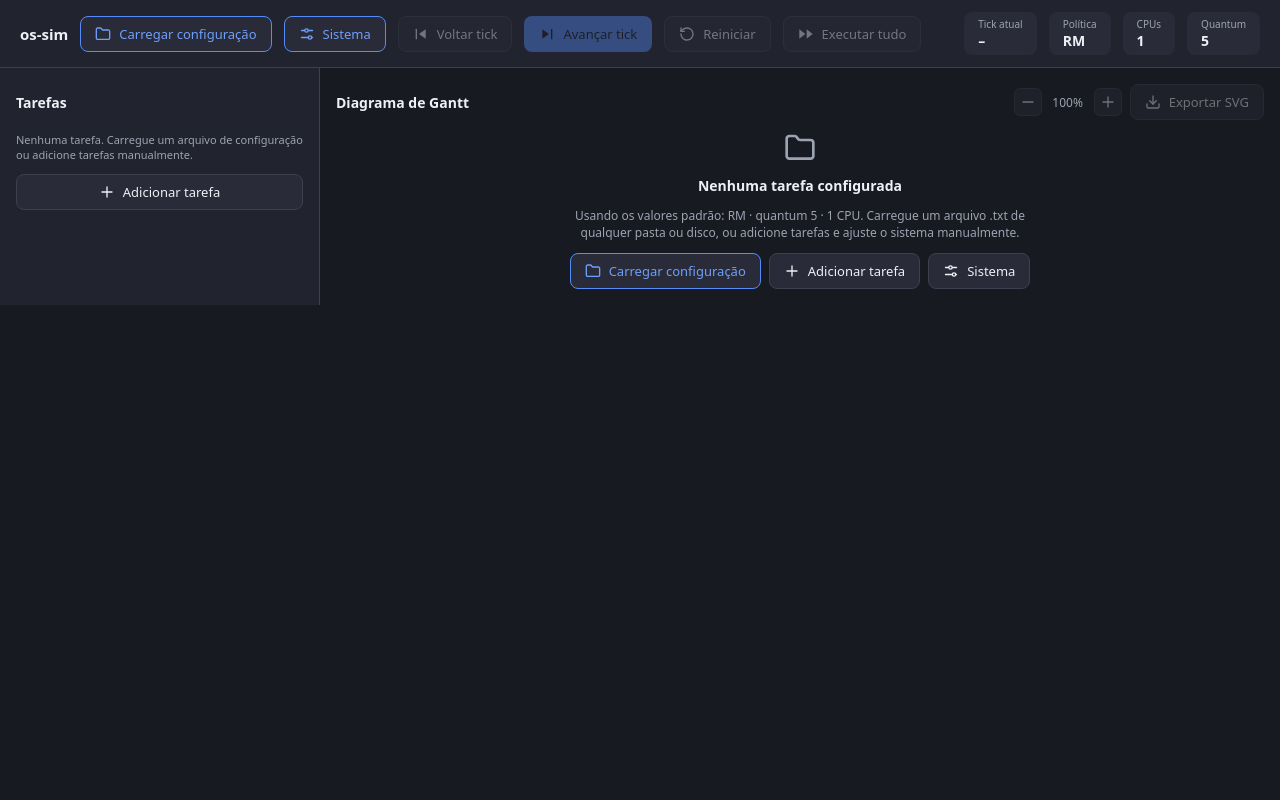
App preparation without a file (#36 part 2) › changes the system values and shows them in the toolbar
This screenshot has width=1280, height=800.
Click the button "Sistema" in the row of "os-sim". click: (335, 34)
box: [284,16,386,52]
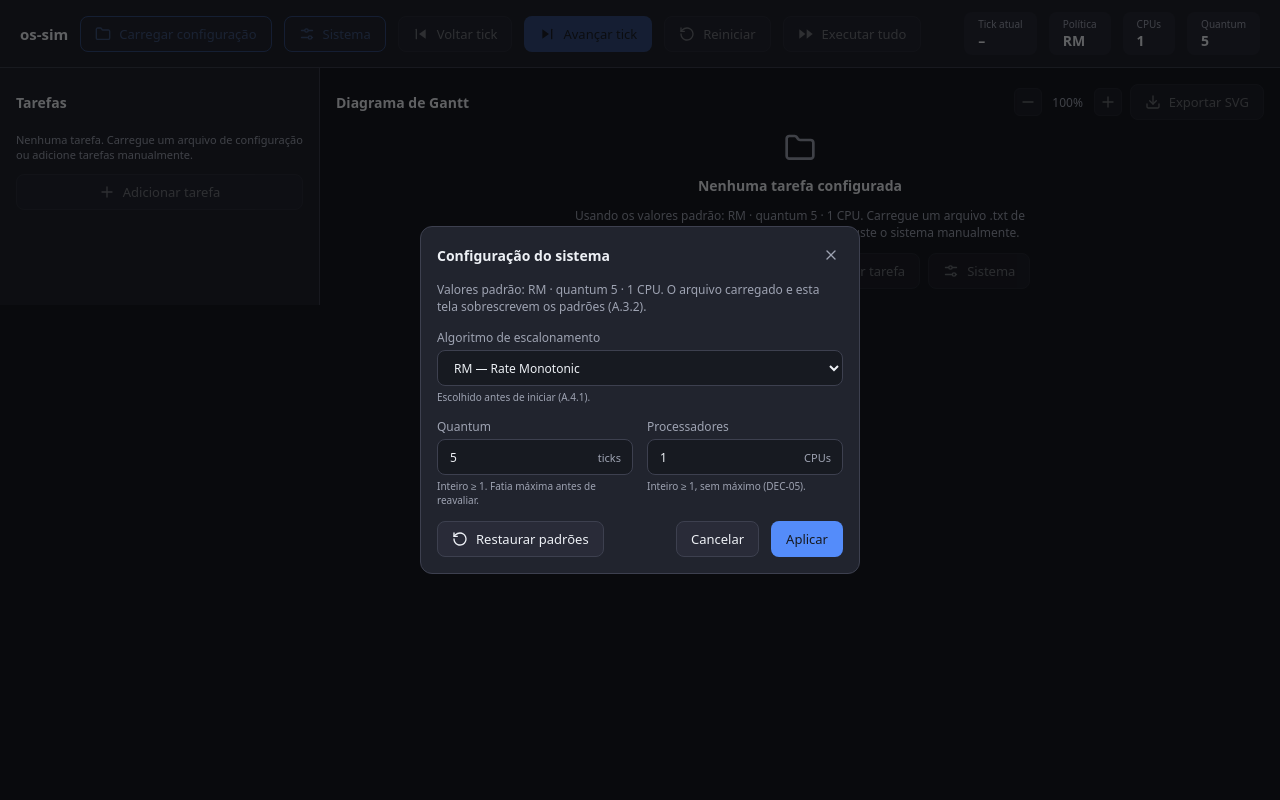
Select "EDF — Earliest Deadline First" in the dropdown labelled "Algoritmo de escalonamento". click: (640, 368)
box: [437,350,843,386]
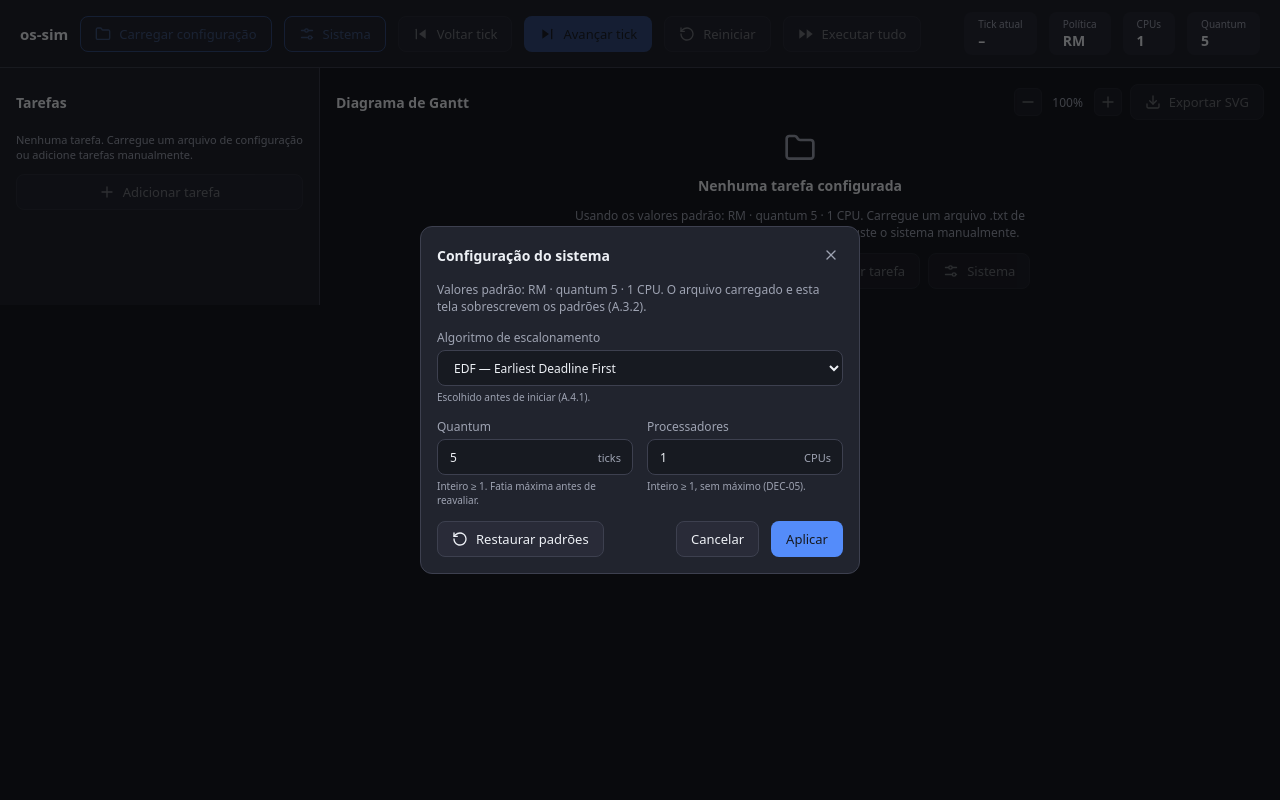
Replace the text in the field labelled "Quantum" with "2". click: (535, 457)
box: [437,439,633,475]
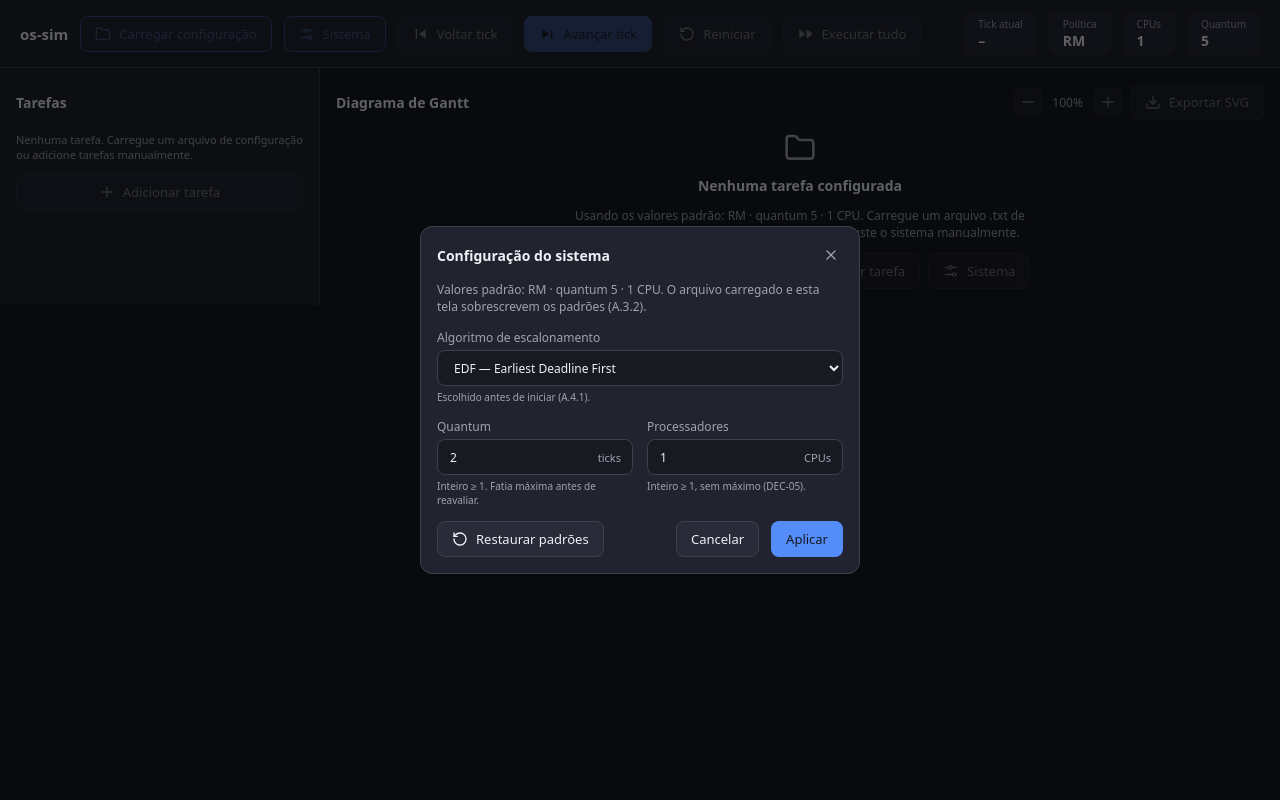
Replace the text in the field labelled "Processadores" with "3". click: (745, 457)
box: [647,439,843,475]
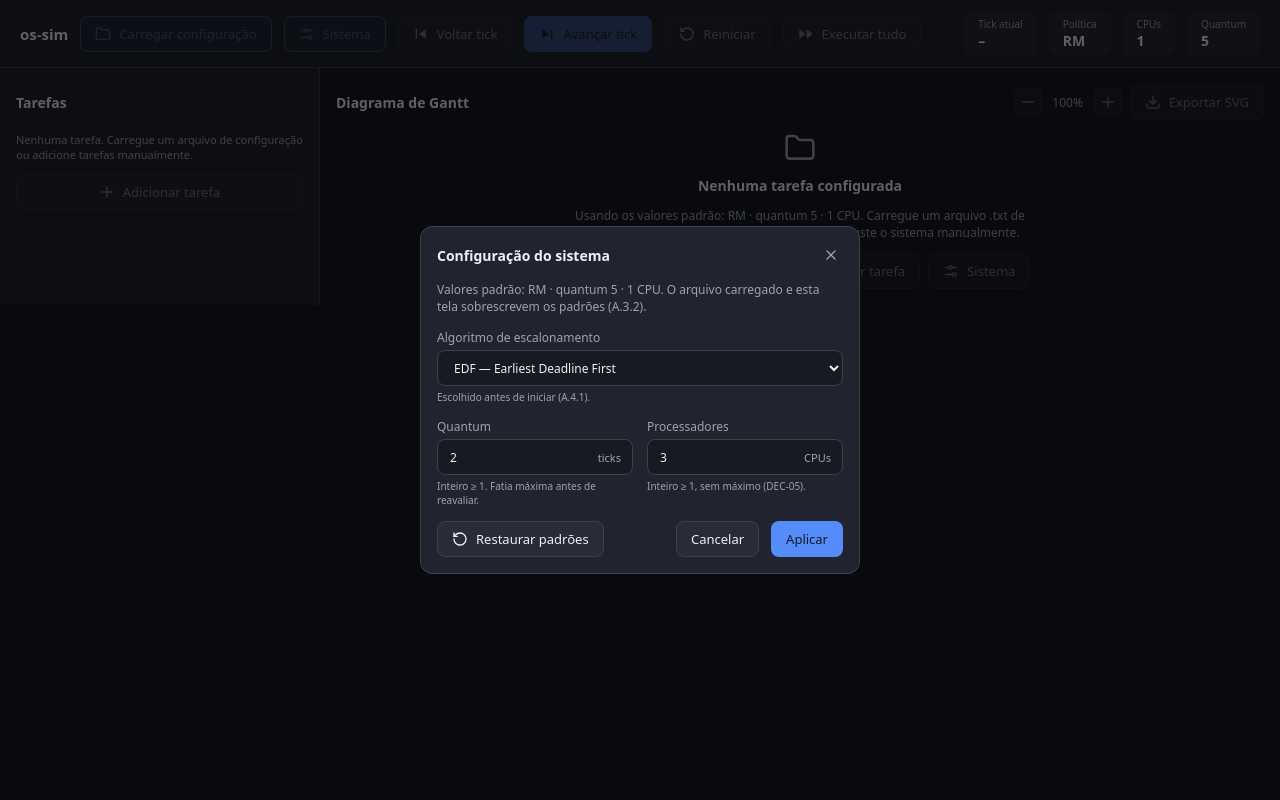
Click the button "Aplicar". click: (807, 539)
box: [771,521,843,557]
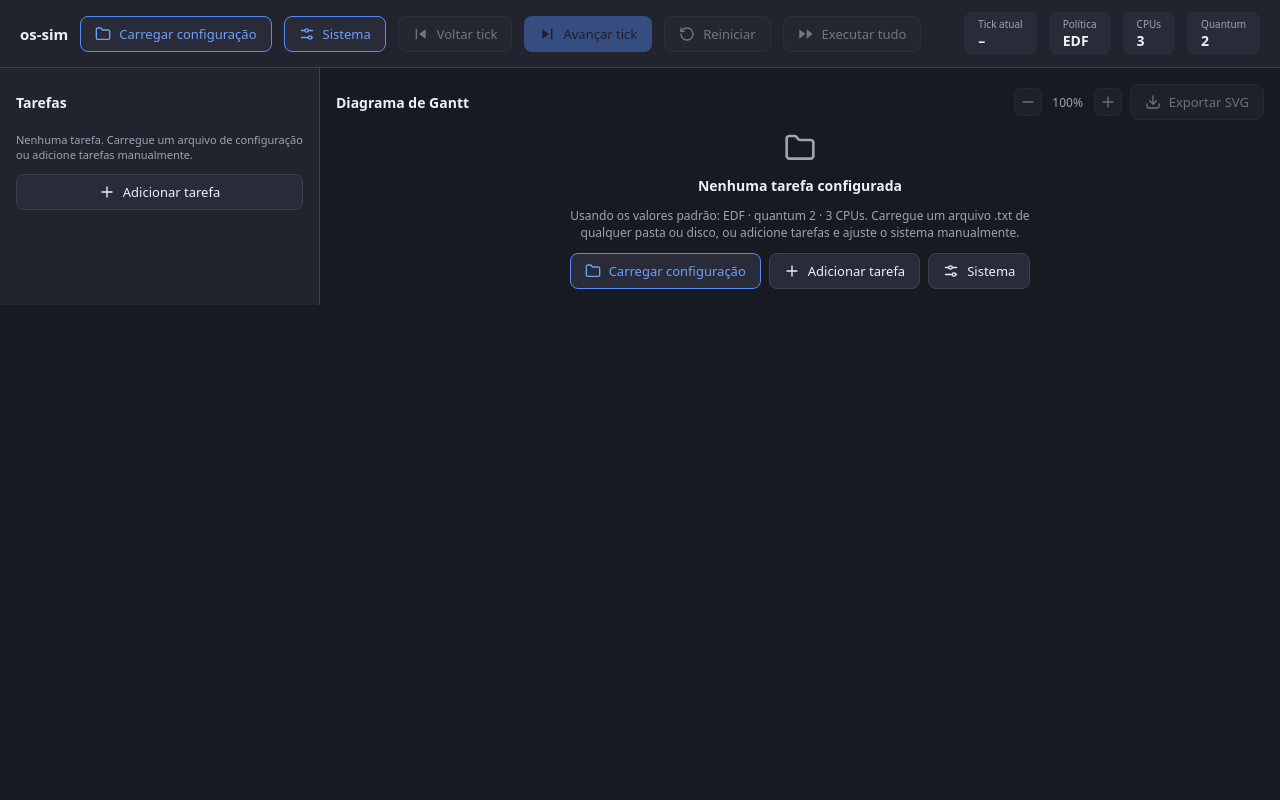
Check: the text "EDF" is shown, box [1063,31,1089,50]
